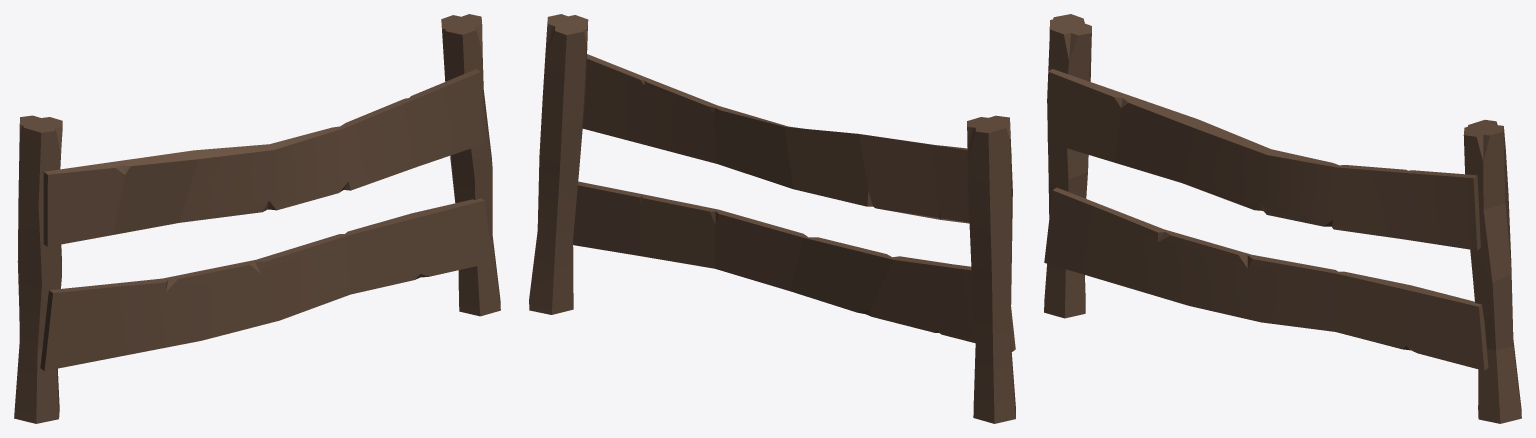
Rendered from WoodFence.fbx.
The picture shows the model from 3 angles, left to right: view 1: azimuth 30°, elevation 25°; view 2: azimuth 150°, elevation 25°; view 3: azimuth 330°, elevation 25°; orthographic projection.
Visible parts, largest first — view 1: WoodFence; view 2: WoodFence; view 3: WoodFence.
Part boxes in pixels (x1,y1,x2,y2): WoodFence: (14, 14, 500, 423); WoodFence: (529, 14, 1015, 423); WoodFence: (1044, 14, 1521, 423).
Size of the model in its own units: 10.01 by 5.71 by 1.18.
